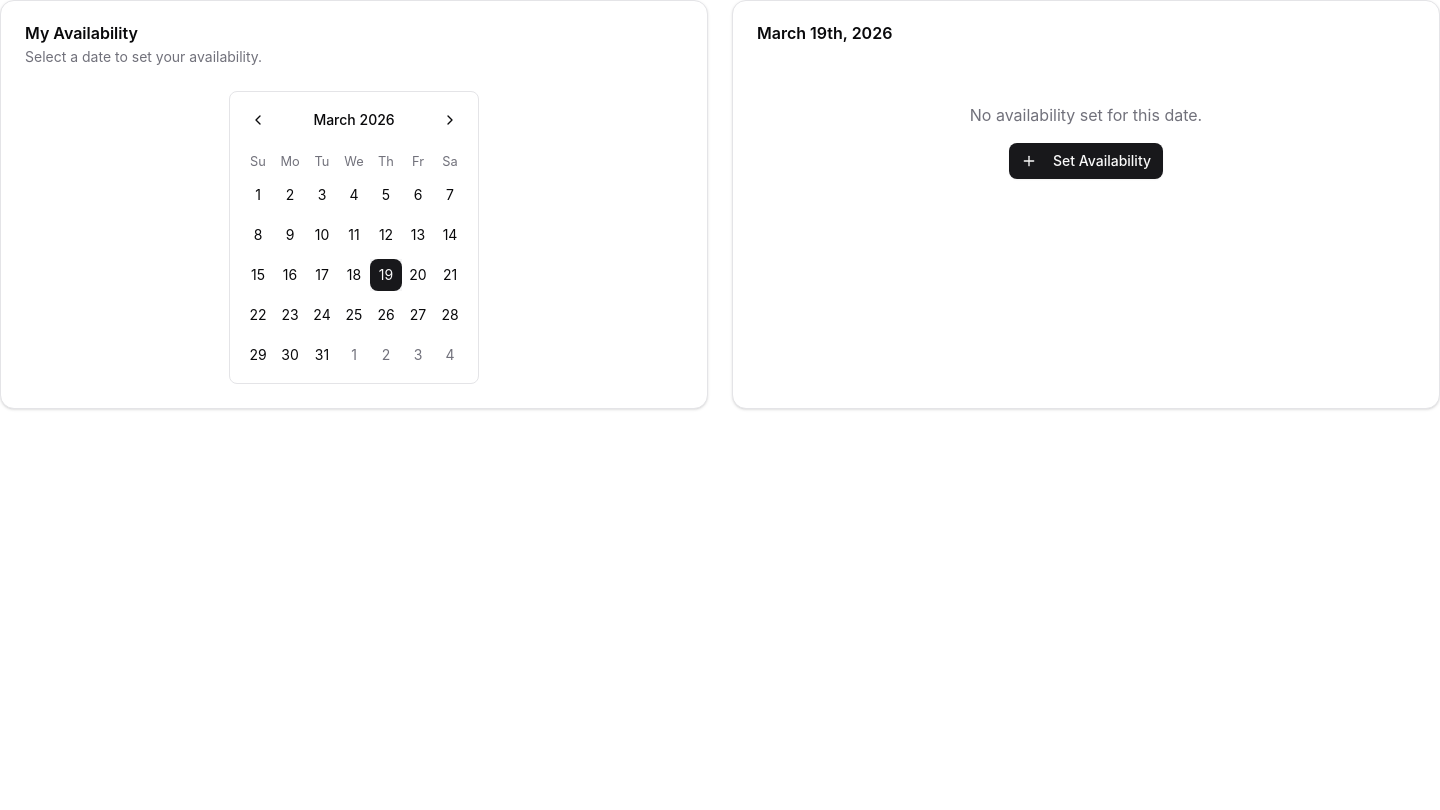
WorkerScheduleView › opens Set Availability dialog when button is clicked
Click the button "Set Availability" at (1086, 161), box [1009,143,1163,179]
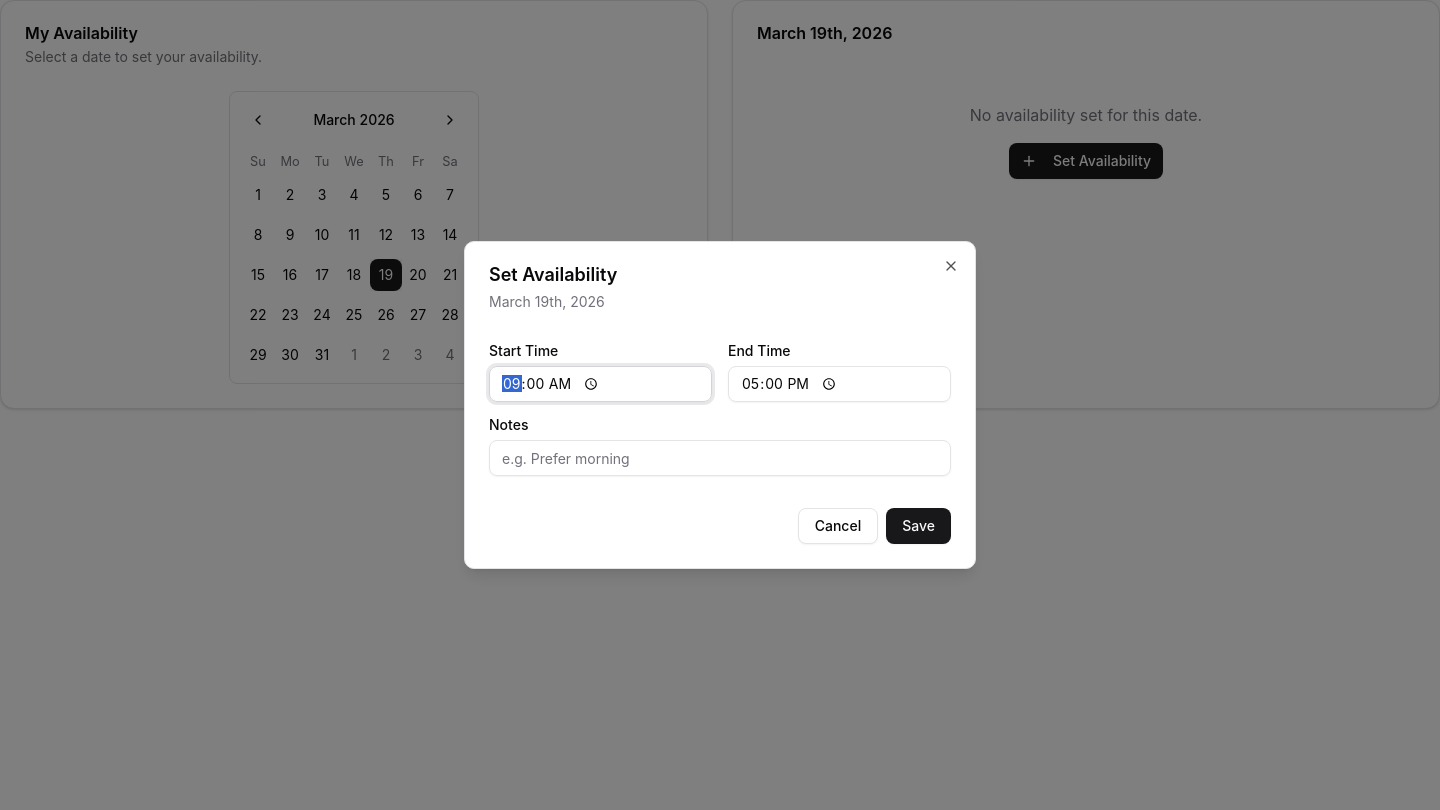
Expected: the time field labelled "Start Time" is shown, [489,366,712,402]
Expected: the time field labelled "End Time" is shown, [728,366,951,402]
